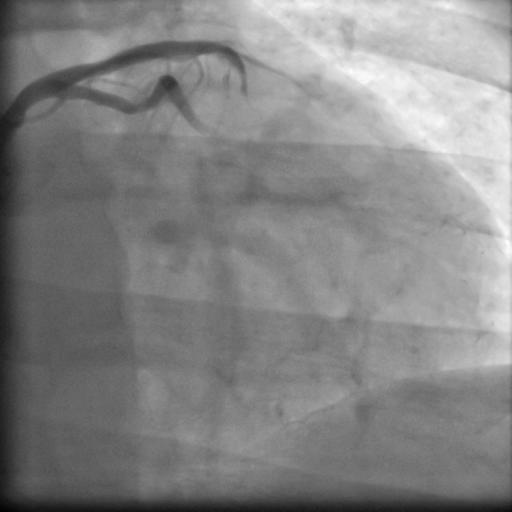Stenosis: (130, 98, 149, 113)
